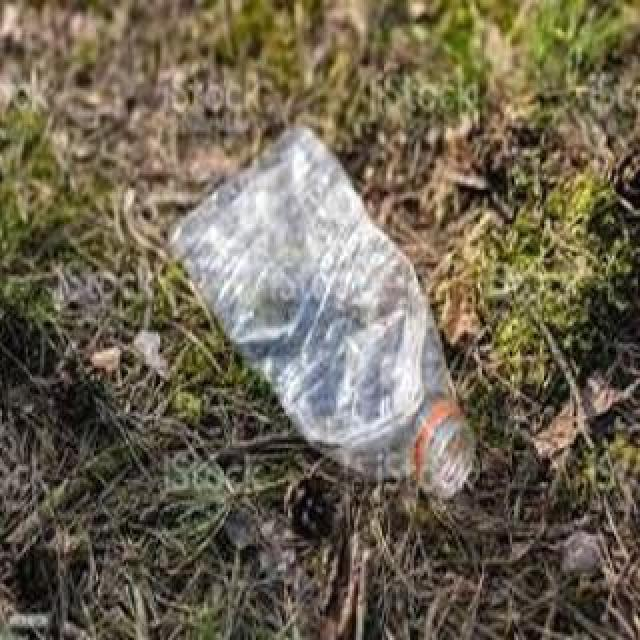Pet_Bottle: (166, 128, 480, 500)
